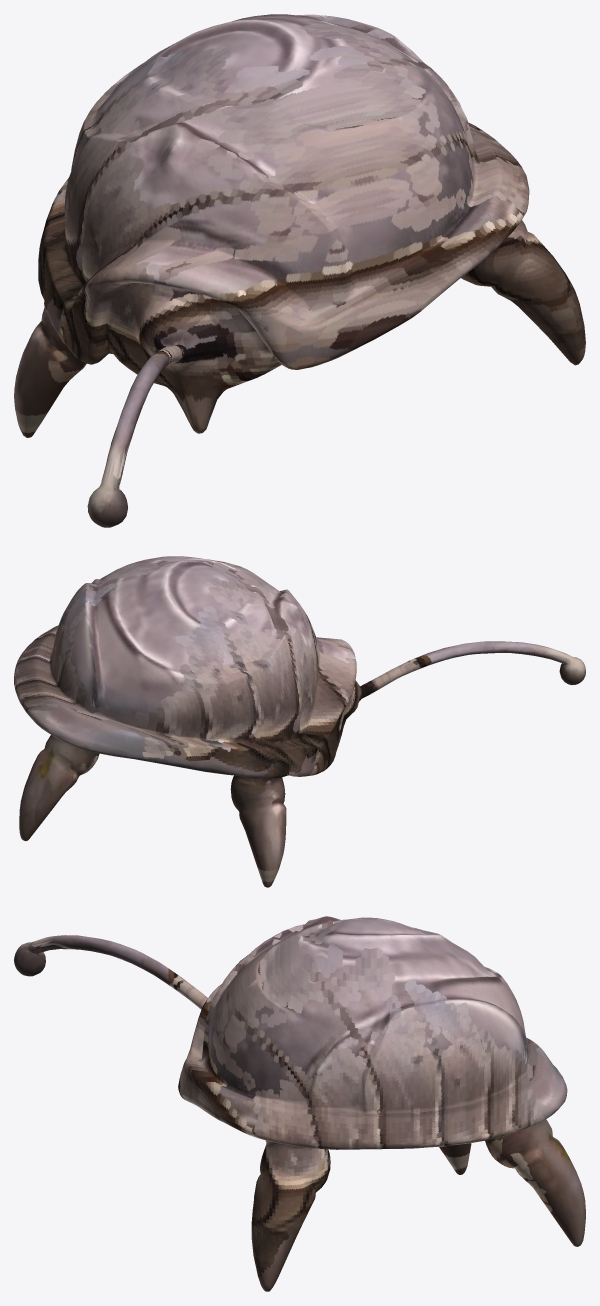
Rendered from grutim.glb.
The picture shows the model from 3 angles, top to bottom: view 1: azimuth 30°, elevation 25°; view 2: azimuth 150°, elevation 25°; view 3: azimuth 270°, elevation 25°; orthographic projection. The views are drawn at different scales.
Size of the model in its own units: 0.98 by 0.5815 by 0.9556.
Materials: 1 (1 with a texture image).
